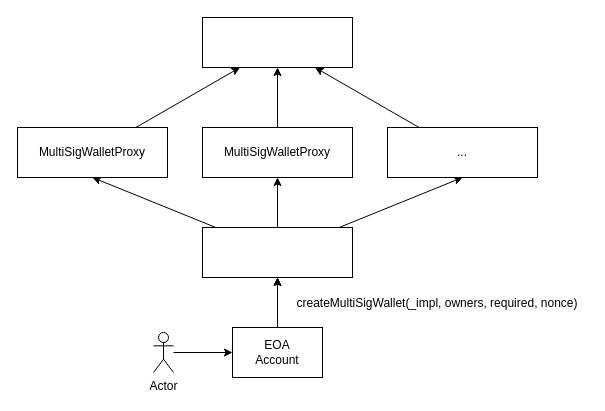
Image size: 605x411. Some labels were removed from this diagram. Here are the shapes that lost their labels. From the top down, the centre of each, then its label:
At [277,42]: "MultiSigWallet Impelement".
At [277,252]: "MultiSigWalletFactory".
